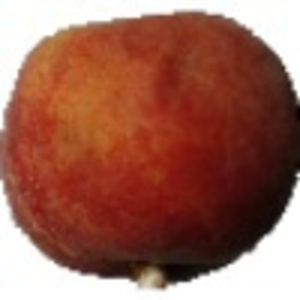pêssego: (1, 9, 300, 293)
